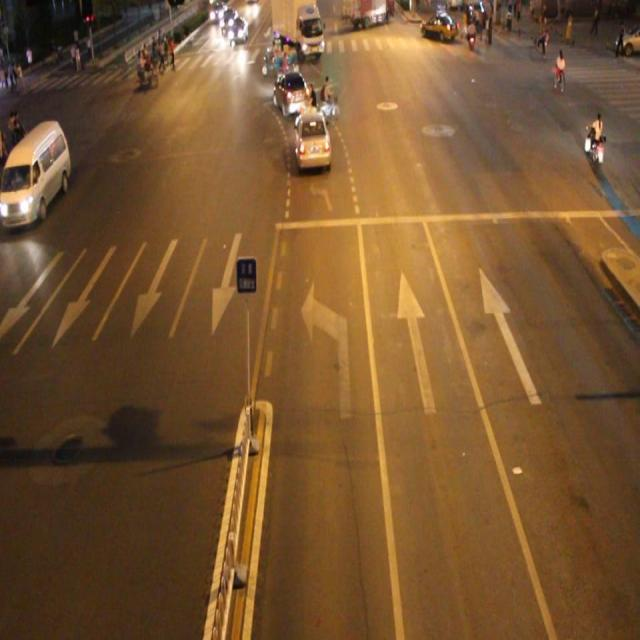car: (293, 108, 332, 171), (272, 68, 311, 116)
truck: (1, 118, 72, 226)
